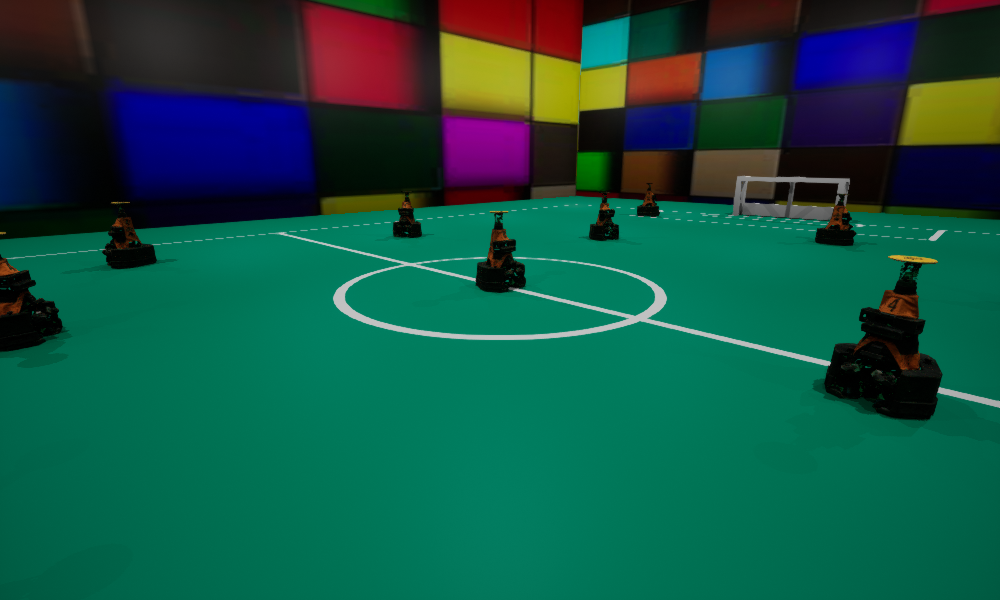o: (824, 255, 942, 418), (0, 232, 62, 351), (476, 211, 525, 292), (102, 202, 156, 267), (815, 194, 856, 245), (589, 192, 618, 240), (393, 191, 421, 236), (637, 183, 659, 216)
